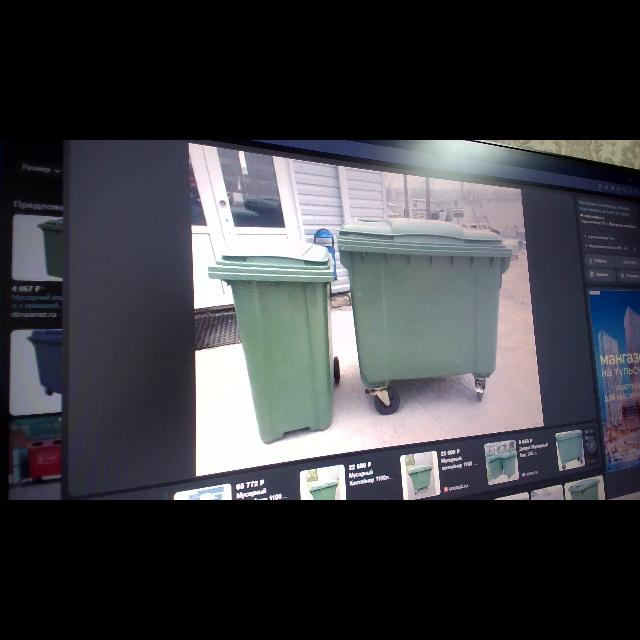Trash_Can_Closed: (338, 218, 513, 388), (208, 239, 336, 445)
